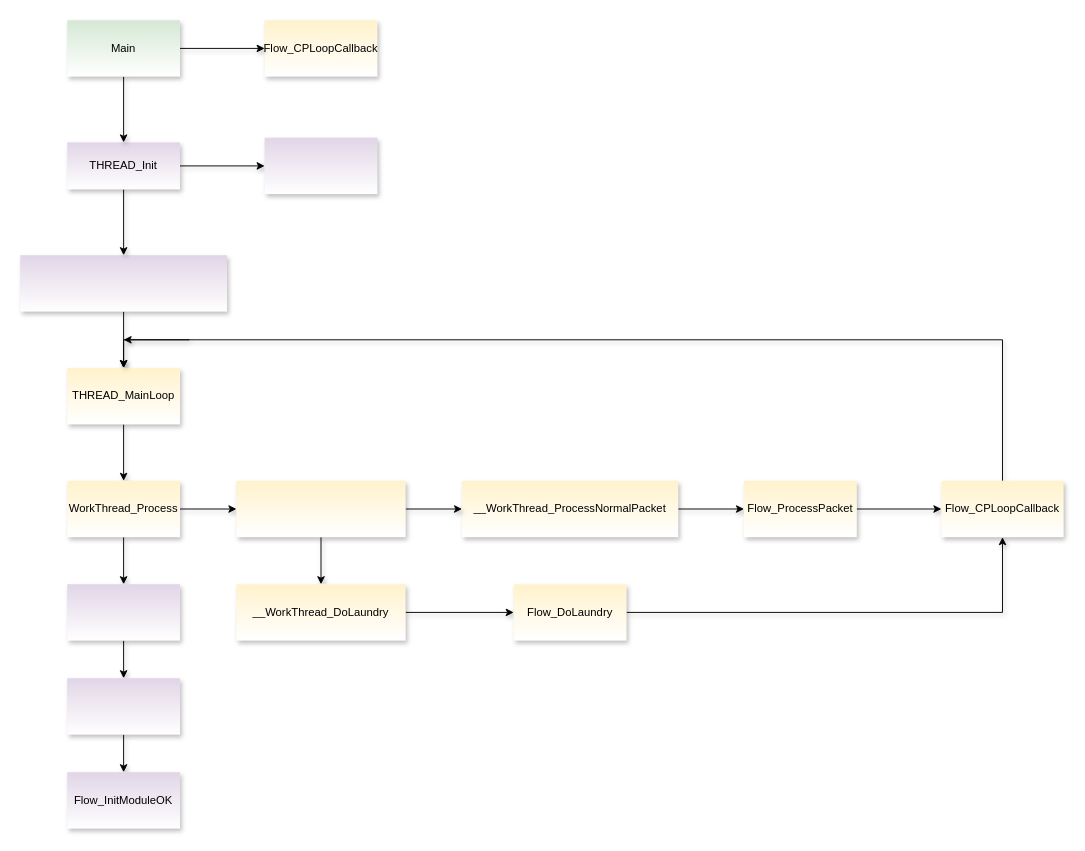
This 1085x851 diagram has some shape labels left out. Here are the shapes that lost their labels. From the top down, the centre of each, then its label:
(x=321, y=166): Flow_InitModule
(x=124, y=284): THREAD_CreateThreadsAndStart
(x=321, y=510): __WorkThread_ProcessLoop
(x=124, y=613): Flow_LcoreInit
(x=124, y=707): THREAD_InitOK
